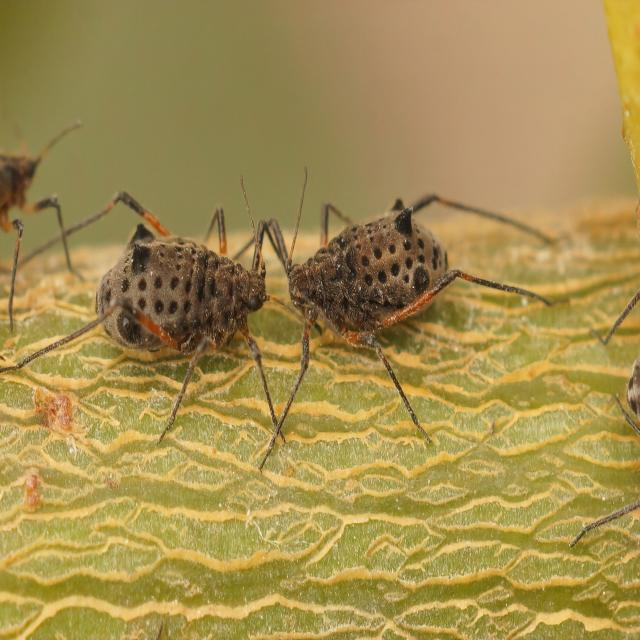Aphid-Grown-: (278, 153, 542, 430), (63, 161, 292, 419)
